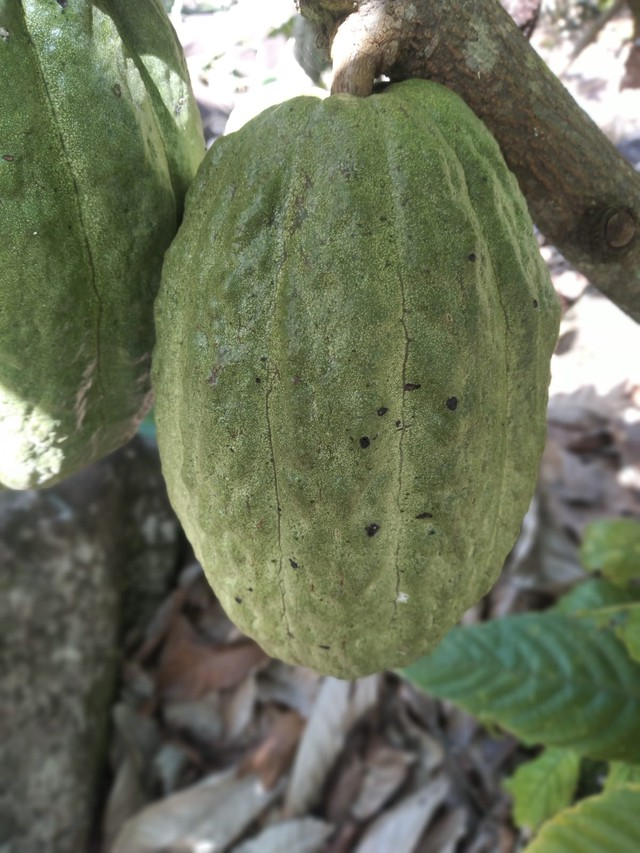Health: (119, 60, 581, 687)
